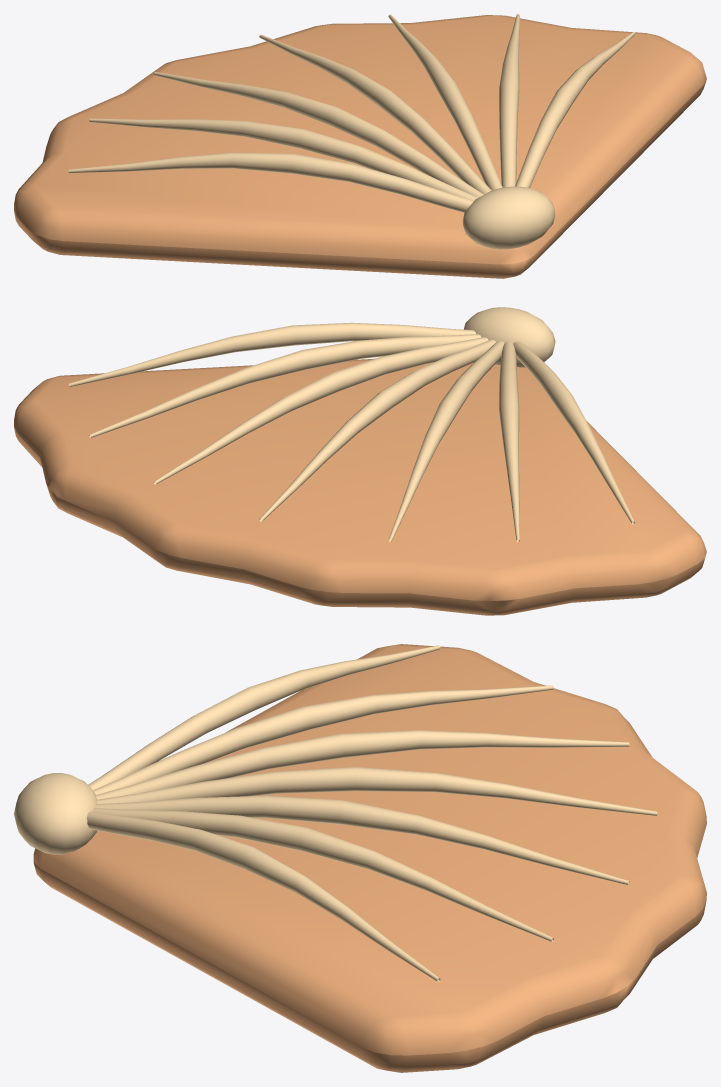
File: shell.glb
3 renders of one model, top to bottom at view 1: azimuth 30°, elevation 25°; view 2: azimuth 150°, elevation 25°; view 3: azimuth 270°, elevation 25°, orthographic. The views are drawn at different scales.
Visible parts, largest first — view 1: shell_shell_peach, shell_shell_ribs; view 2: shell_shell_peach, shell_shell_ribs; view 3: shell_shell_peach, shell_shell_ribs.
Boxes of the visible parts, x1,y1,x2,y2 form: shell_shell_peach: (14, 15, 706, 278); shell_shell_ribs: (68, 14, 634, 249); shell_shell_peach: (14, 358, 706, 615); shell_shell_ribs: (68, 307, 634, 542); shell_shell_peach: (33, 644, 706, 1072); shell_shell_ribs: (14, 645, 657, 981).
Size of the model in its own units: 3.41 by 0.4728 by 2.53.
